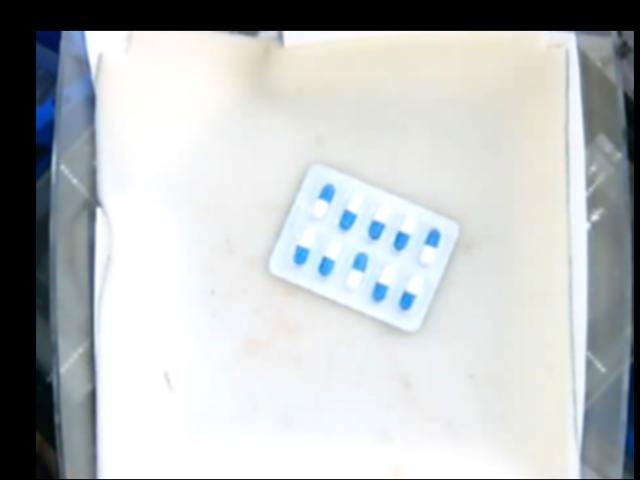Medicine: (264, 166, 461, 326)
